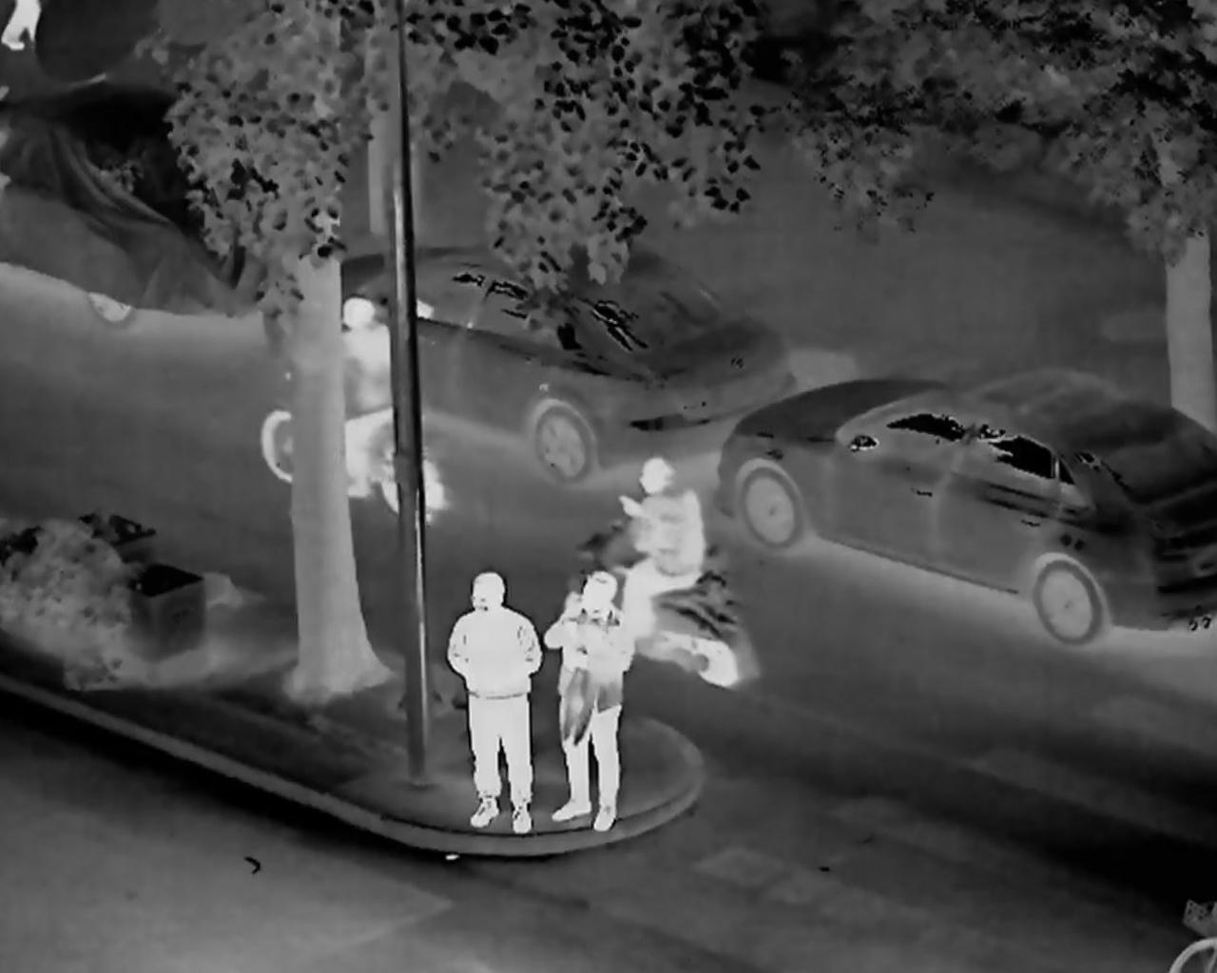person: (437, 568, 551, 856), (588, 453, 723, 677), (535, 561, 635, 833), (293, 292, 416, 491)
